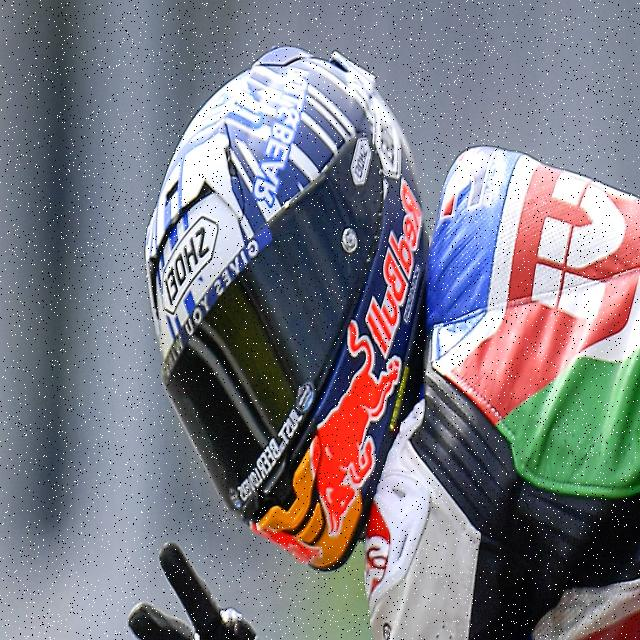Helmet: (146, 46, 422, 562)
